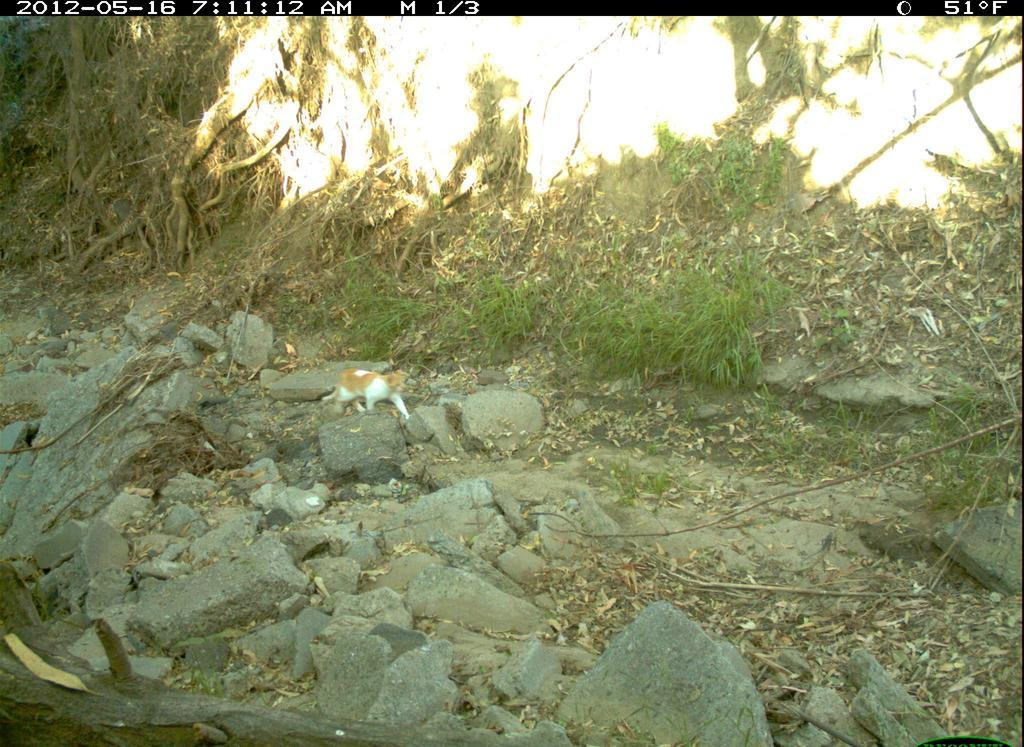cat: (327, 358, 433, 431)
